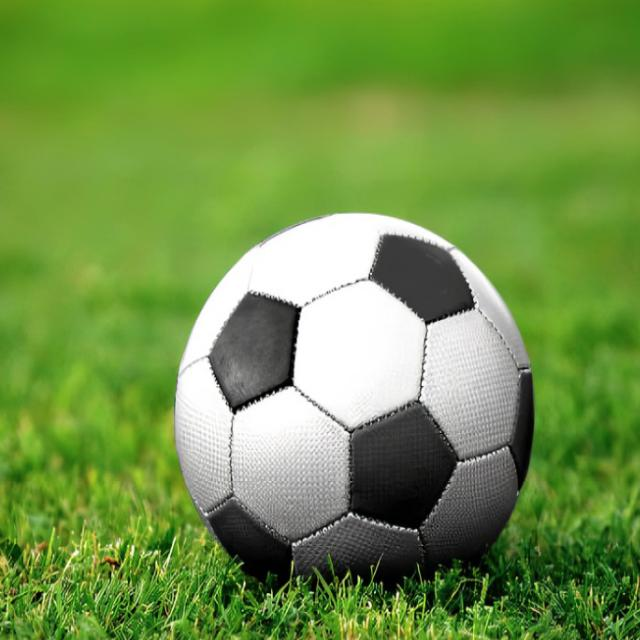football: (149, 188, 556, 605)
